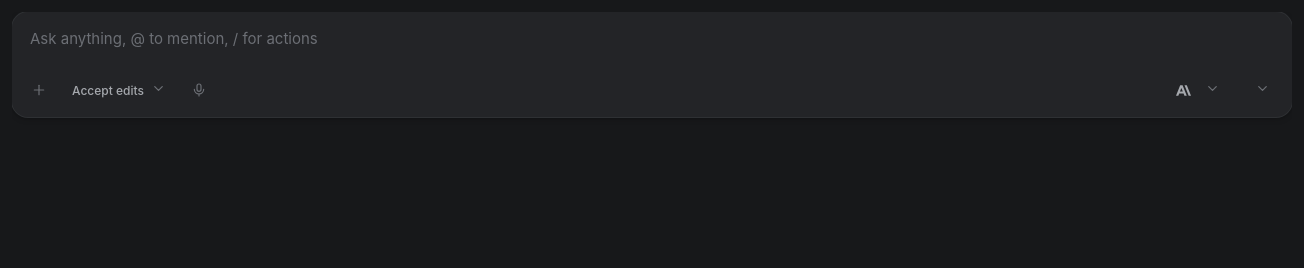
it: Composer attachments › shows a genuine truncation notice on the chip but drops a size-only notice
The width and height of the screenshot is (1304, 268).
Click the button named "Add context" at (39, 90), box left=24, top=75, right=54, bottom=105
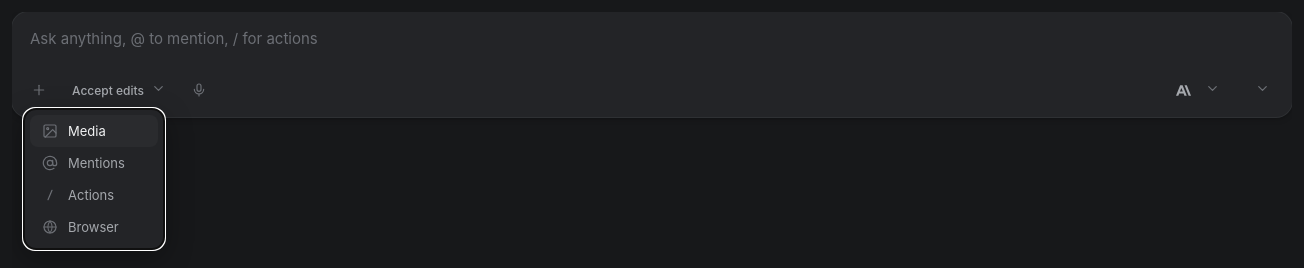
Click the text "Media" at (87, 131), box left=68, top=123, right=106, bottom=139
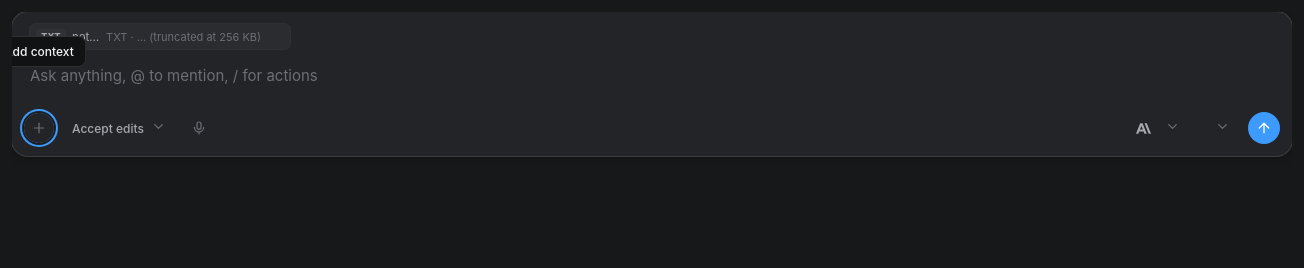
expect the text "notes.txt" is shown: met, box left=72, top=30, right=100, bottom=44
expect the text "notes.txt" shows "truncated": met, box left=106, top=30, right=261, bottom=44
expect the text with class "attachment-type-badge" reads "TXT": met, box left=41, top=31, right=61, bottom=42
